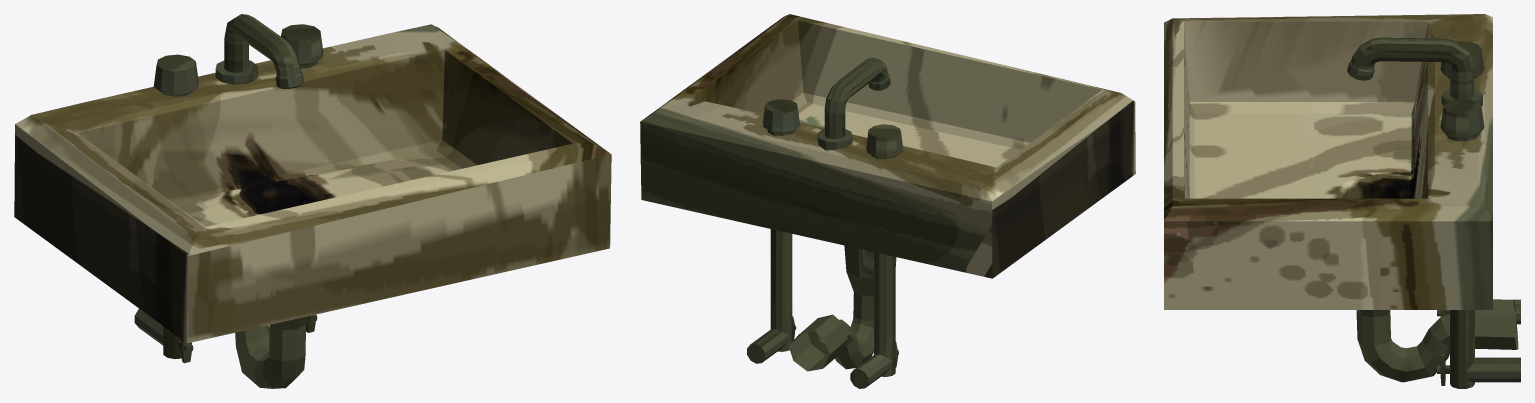
Rendered from SM_brsink.fbx.
The picture shows the model from 3 angles, left to right: view 1: azimuth 30°, elevation 25°; view 2: azimuth 150°, elevation 25°; view 3: azimuth 270°, elevation 25°; orthographic projection. The views are drawn at different scales.
Parts seen in each view (by area): view 1: SM_sink.001, SM_water; view 2: SM_sink.001, SM_water; view 3: SM_sink.001, SM_water.
Part boxes in pixels (x1,y1,x2,y2): SM_sink.001: [14, 24, 611, 388]; SM_water: [134, 14, 323, 363]; SM_sink.001: [640, 14, 1135, 371]; SM_water: [747, 58, 903, 388]; SM_sink.001: [1164, 14, 1518, 382]; SM_water: [1347, 37, 1520, 388].
Size of the model in its own units: 47.15 by 38.06 by 36.
